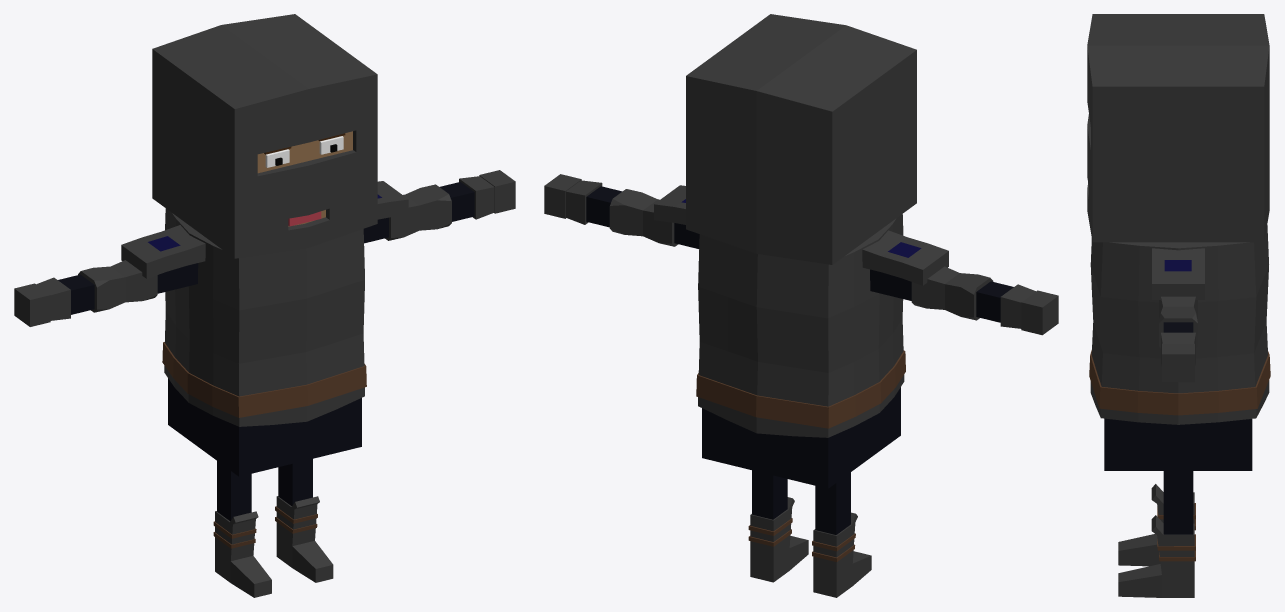
File: KnightFBXV2.fbx
The picture shows the model from 3 angles, left to right: view 1: azimuth 30°, elevation 25°; view 2: azimuth 150°, elevation 25°; view 3: azimuth 270°, elevation 25°; orthographic projection. The views are drawn at different scales.
Visible parts, largest first — view 1: Humanoid, Leg.R, Leg.L, LowerArm.R, LowerArm.L, UpperArm.R, UpperArm.L; view 2: Humanoid, Leg.R, LowerArm.R, Leg.L, LowerArm.L, UpperArm.R, UpperArm.L; view 3: Humanoid, Leg.L, LowerArm.L, Leg.R, UpperArm.L.
Part boxes in pixels (box(x1,y1,x2,y2)): Humanoid: box(121, 14, 408, 476); Leg.R: box(213, 461, 271, 597); Leg.L: box(275, 459, 333, 582); LowerArm.R: box(14, 266, 125, 326); LowerArm.L: box(405, 170, 515, 230); UpperArm.R: box(111, 260, 198, 302); UpperArm.L: box(363, 194, 419, 243); Humanoid: box(654, 14, 948, 488); Leg.R: box(812, 472, 871, 597); LowerArm.R: box(945, 273, 1058, 335); Leg.L: box(748, 470, 808, 582); LowerArm.L: box(544, 174, 657, 236); UpperArm.R: box(870, 266, 959, 309); UpperArm.L: box(643, 199, 699, 248); Humanoid: box(1087, 14, 1270, 470); Leg.L: box(1118, 471, 1195, 597); LowerArm.L: box(1159, 306, 1197, 382); Leg.R: box(1118, 484, 1195, 566); UpperArm.L: box(1159, 296, 1197, 318).
Bounding box in the file's own units: 418 × 420 × 131.
